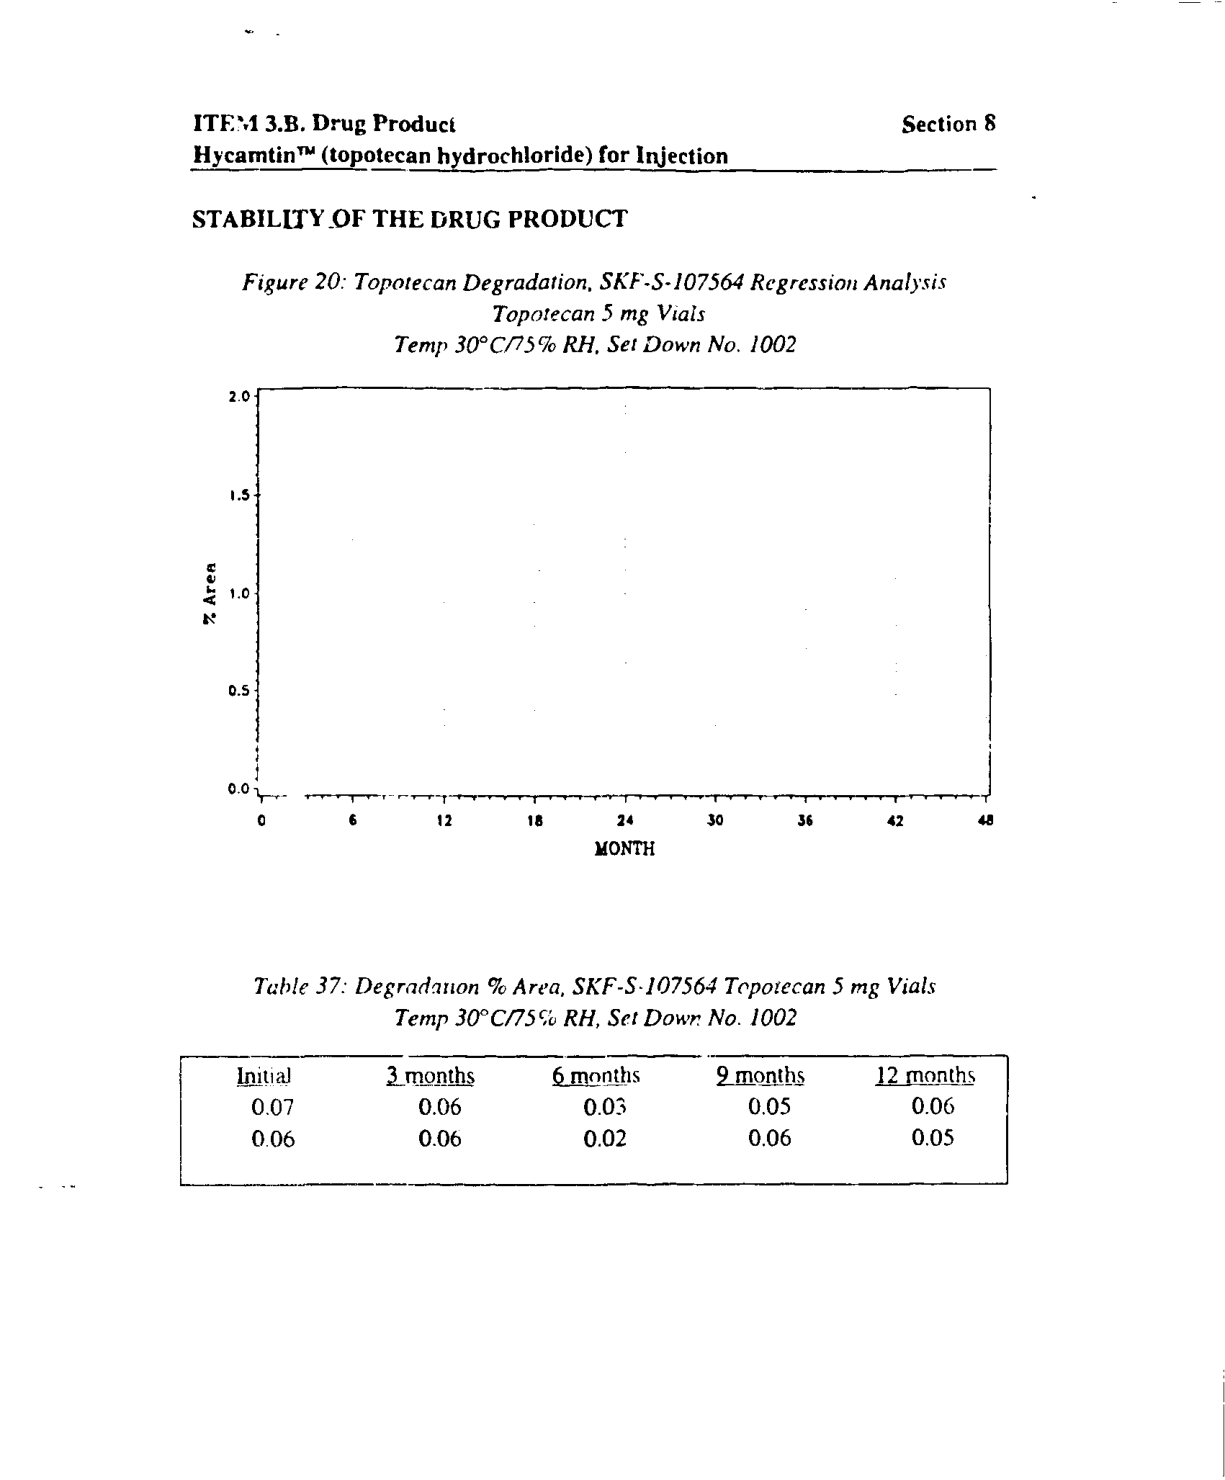partial_lined: (178, 1051, 1010, 1187)
